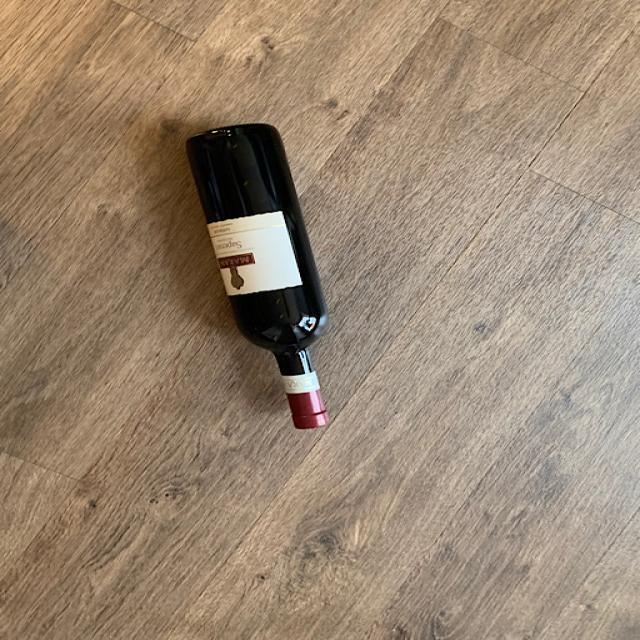litter: (181, 118, 339, 432)
